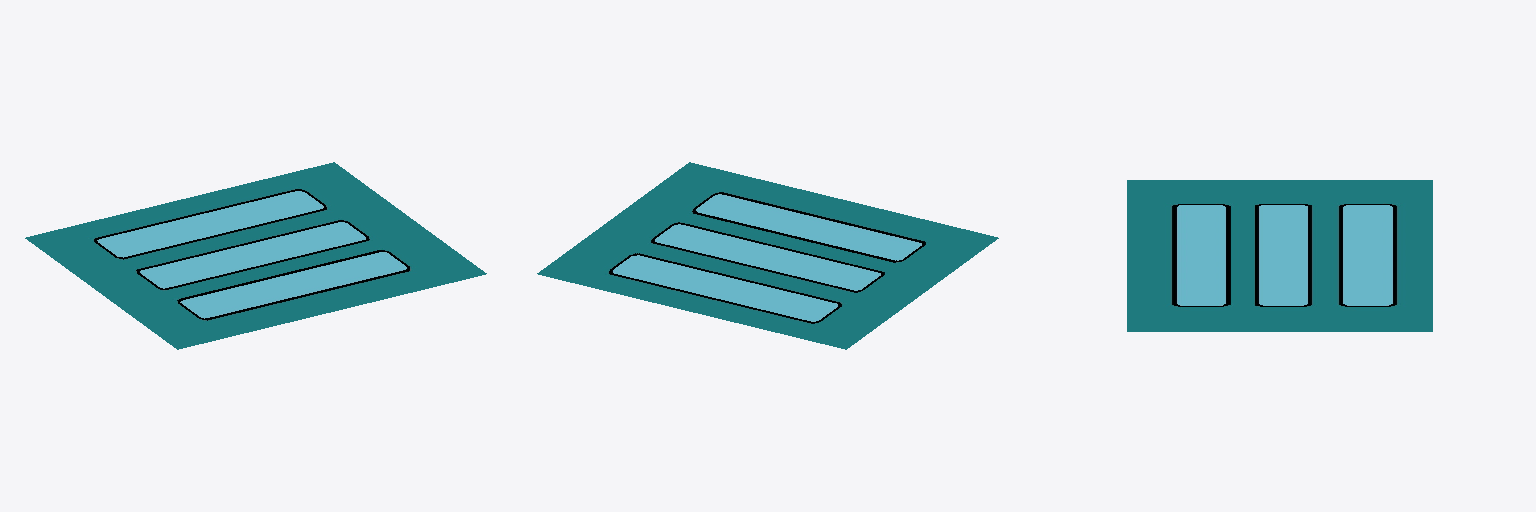
The picture shows the model from 3 angles: view 1: azimuth 30°, elevation 25°; view 2: azimuth 150°, elevation 25°; view 3: azimuth 270°, elevation 25°; orthographic projection.
Parts seen in each view (by area): view 1: Plane002; view 2: Plane002; view 3: Plane002.
Boxes of the visible parts, x1,y1,x2,y2 form: Plane002: [25, 162, 486, 349]; Plane002: [537, 162, 998, 349]; Plane002: [1127, 180, 1432, 331].
Bounding box in the file's own units: 94.59 × 0 × 80.88.
Materials: 1 (1 with a texture image).